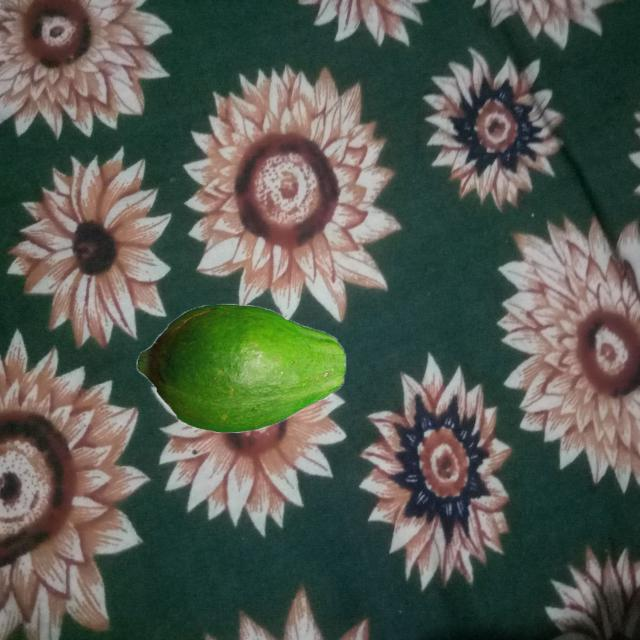Pepaya unrippen: (126, 304, 355, 436)
